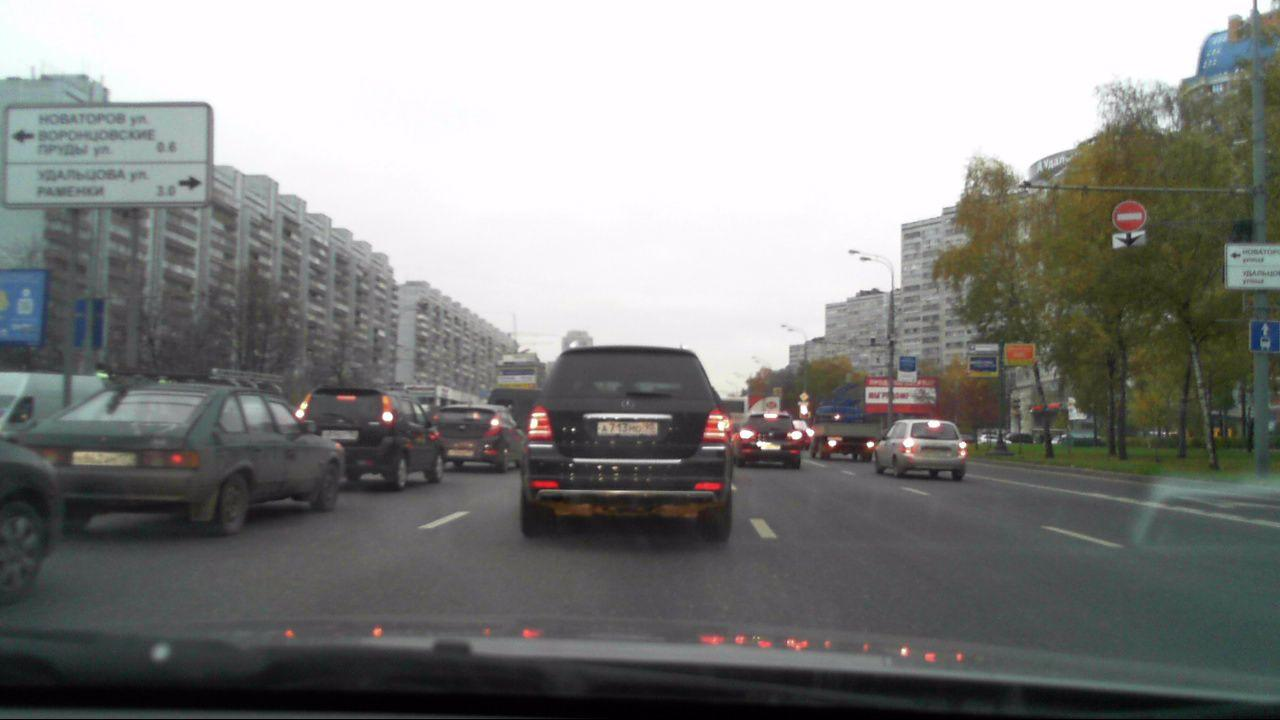2_1: (797, 390, 810, 400)
3_1: (1113, 198, 1146, 233)
5_14_1: (1249, 324, 1279, 355)
6_10_1: (1226, 243, 1280, 288)
8_14: (1110, 232, 1147, 248)
